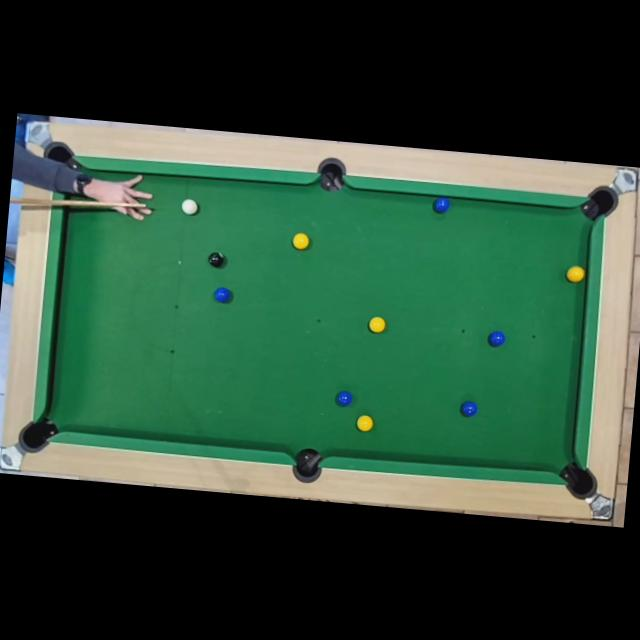Ball: (566, 264, 584, 282), (292, 232, 310, 250), (368, 316, 386, 334), (433, 196, 450, 214), (180, 198, 197, 216), (335, 390, 352, 407), (459, 399, 476, 416), (356, 414, 372, 432), (213, 287, 229, 304), (488, 331, 504, 348), (207, 250, 223, 266)
